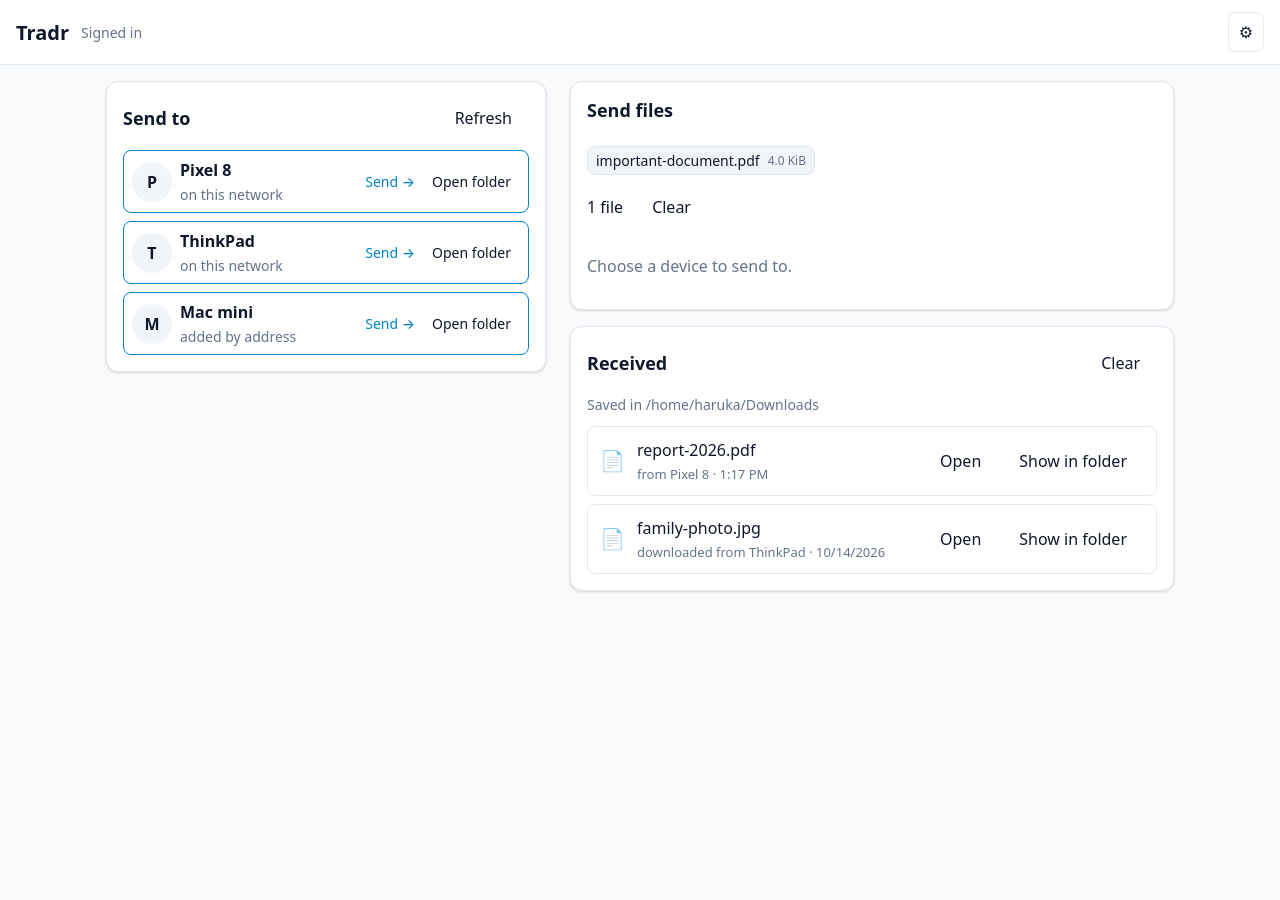
Scenario: App component › preserves waiting files and displays failure notice when send rejects
Expected: the text "important-document.pdf" is shown, [596,151,760,170]
Click the text "Pixel 8" at point(206, 170), box [180,159,232,181]
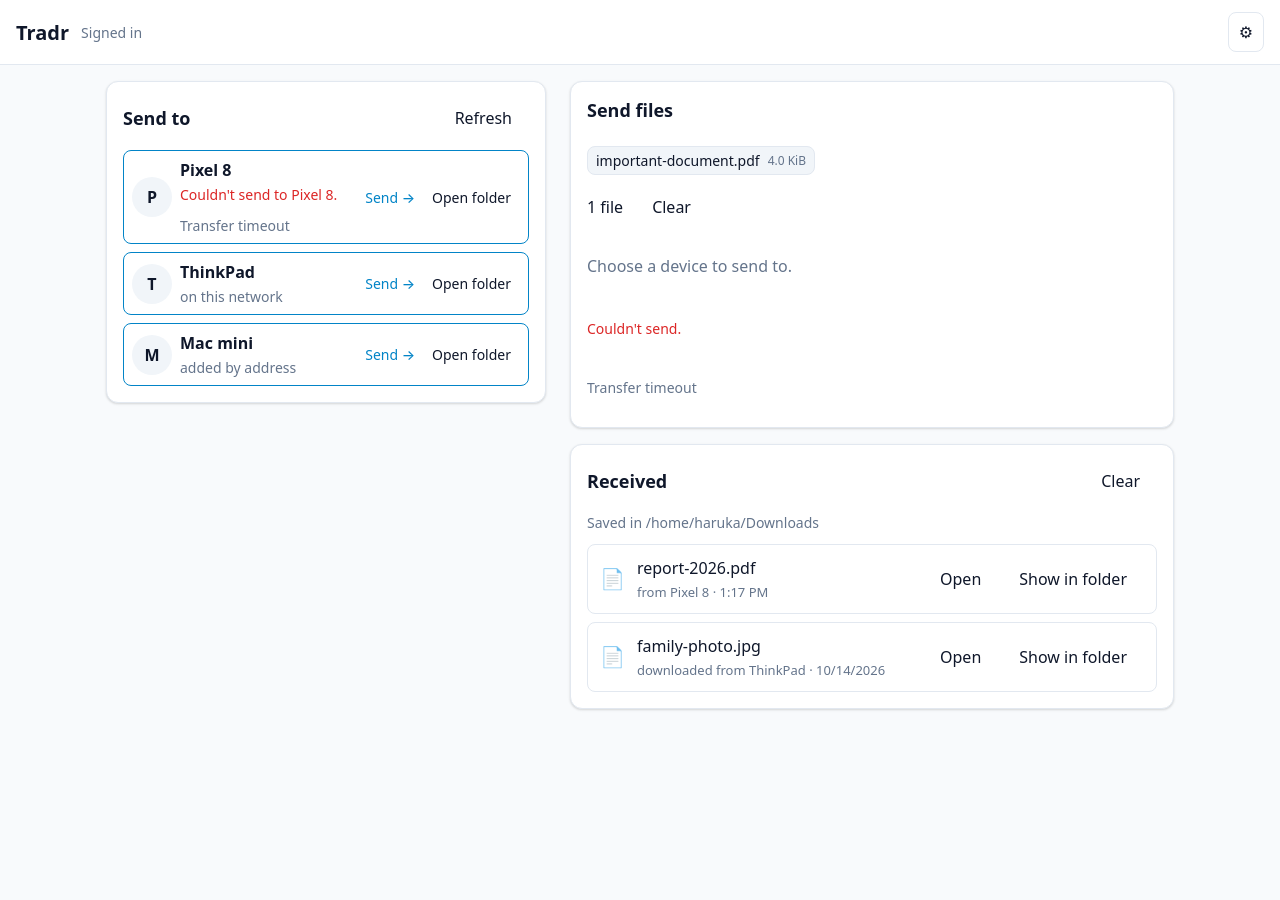
Expected: the text "important-document.pdf" is shown, [596,151,760,170]
Expected: the text "Couldn't send to Pixel 8." is shown, [180,185,357,204]
